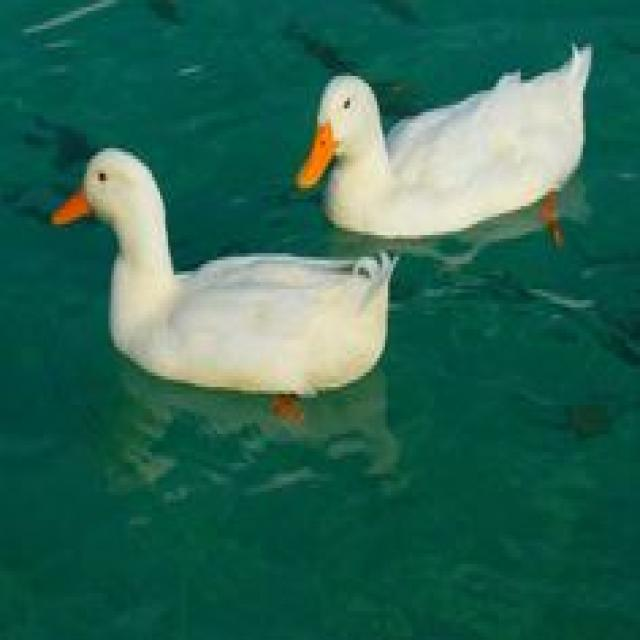Herbivorous: (49, 148, 396, 401), (296, 47, 594, 242)
